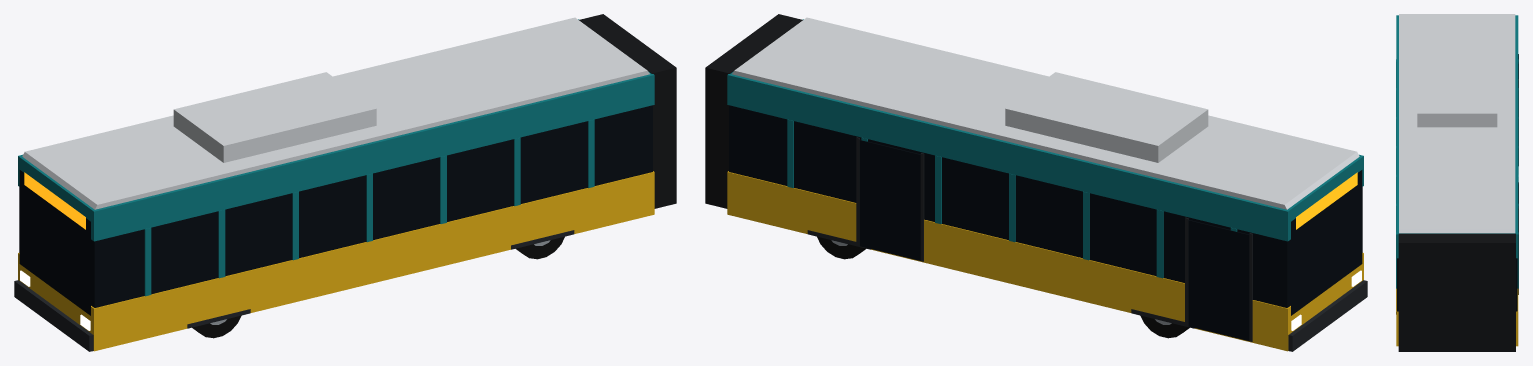
Rendered from bus60f-teal.glb.
The picture shows the model from 3 angles, left to right: view 1: azimuth 30°, elevation 25°; view 2: azimuth 150°, elevation 25°; view 3: azimuth 270°, elevation 25°; orthographic projection. The views are drawn at different scales.
Parts seen in each view (by area): view 1: bus60-front; view 2: bus60-front; view 3: bus60-front.
Boxes of the visible parts, box(x1,y1,x2,y2) form: bus60-front: box(14, 14, 676, 351); bus60-front: box(705, 14, 1367, 351); bus60-front: box(1396, 14, 1518, 351).
Bounding box in the file's own units: 11.54 × 3.33 × 2.61.
